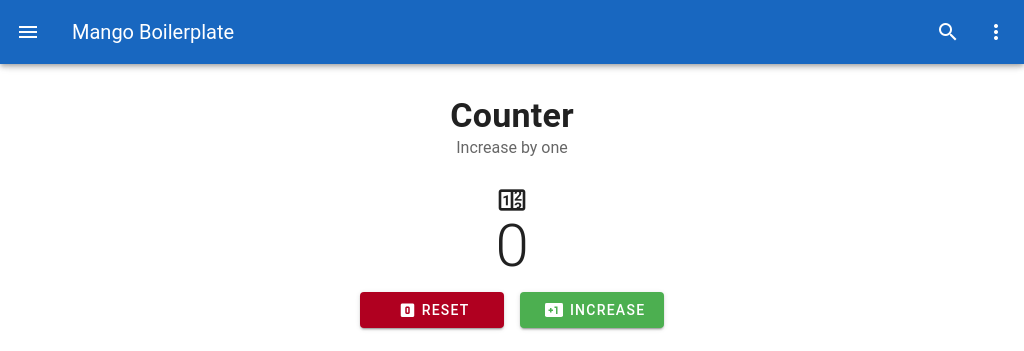
Test: UI › Should display home page correctly
Expected: the text "Counter" is shown, [450, 95, 574, 135]
Expected: the text "Increase by one" is shown, [456, 138, 568, 157]
Step 1. Click the button with test id "btn-increment" → (592, 310), box [520, 292, 664, 328]
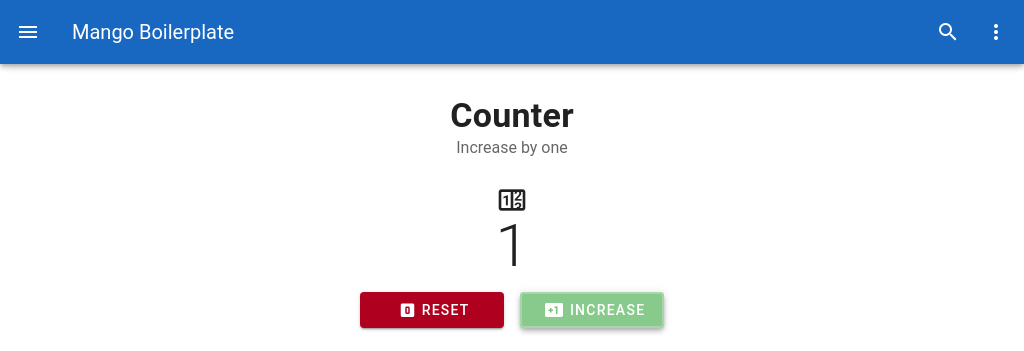
Expected: the text with test id "count-number" reads "1", [496, 210, 529, 281]
Step 2. Click the button with test id "btn-increment" → (592, 310), box [520, 292, 664, 328]
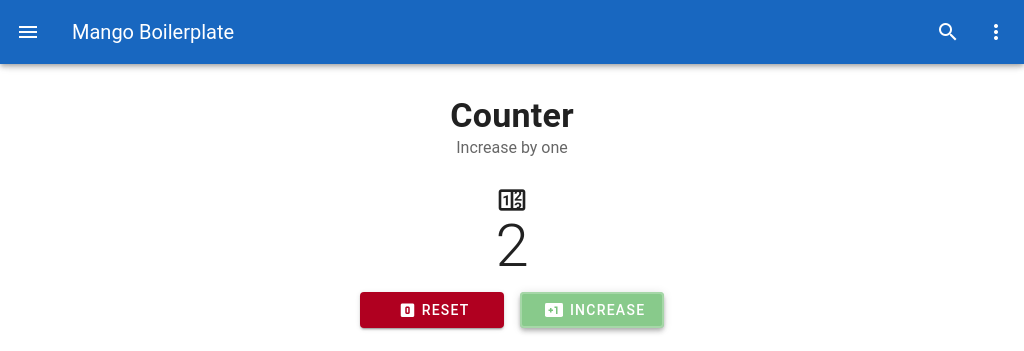
Expected: the text with test id "count-number" reads "2", [496, 210, 529, 281]
Step 3. Click the button with test id "btn-increment" → (592, 310), box [520, 292, 664, 328]
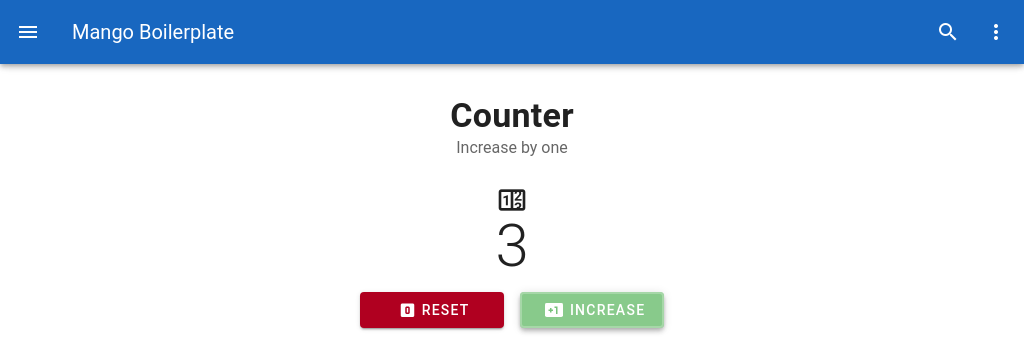
Expected: the text with test id "count-number" reads "3", [496, 210, 529, 281]
Step 4. Click the button with test id "btn-reset" → (432, 310), box [360, 292, 504, 328]
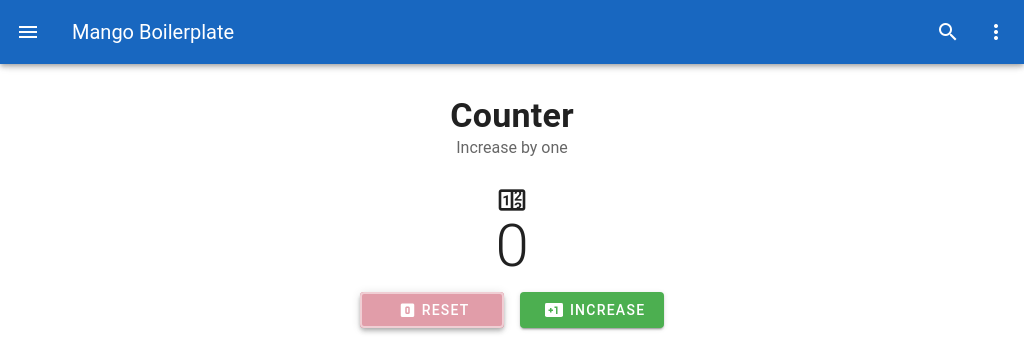
Expected: the text with test id "count-number" reads "0", [496, 210, 529, 281]
